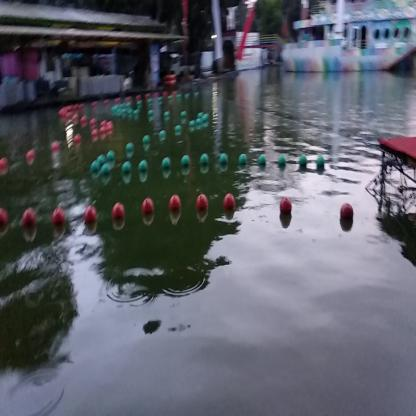green_buoy: (216, 152, 228, 172), (257, 154, 267, 170), (162, 158, 172, 174), (122, 162, 132, 178), (126, 142, 134, 161), (105, 152, 115, 167), (200, 155, 210, 170), (101, 164, 110, 180), (315, 156, 324, 171), (298, 154, 306, 170), (182, 156, 190, 172), (238, 154, 246, 169), (139, 161, 147, 176), (141, 137, 150, 149), (91, 160, 97, 177), (278, 155, 284, 170)
red_buoy: (339, 201, 353, 229), (195, 192, 208, 220), (280, 197, 292, 221), (84, 206, 97, 223), (223, 195, 234, 214), (169, 195, 181, 212), (113, 204, 124, 219), (23, 210, 34, 225), (142, 198, 152, 214), (54, 209, 63, 221)
